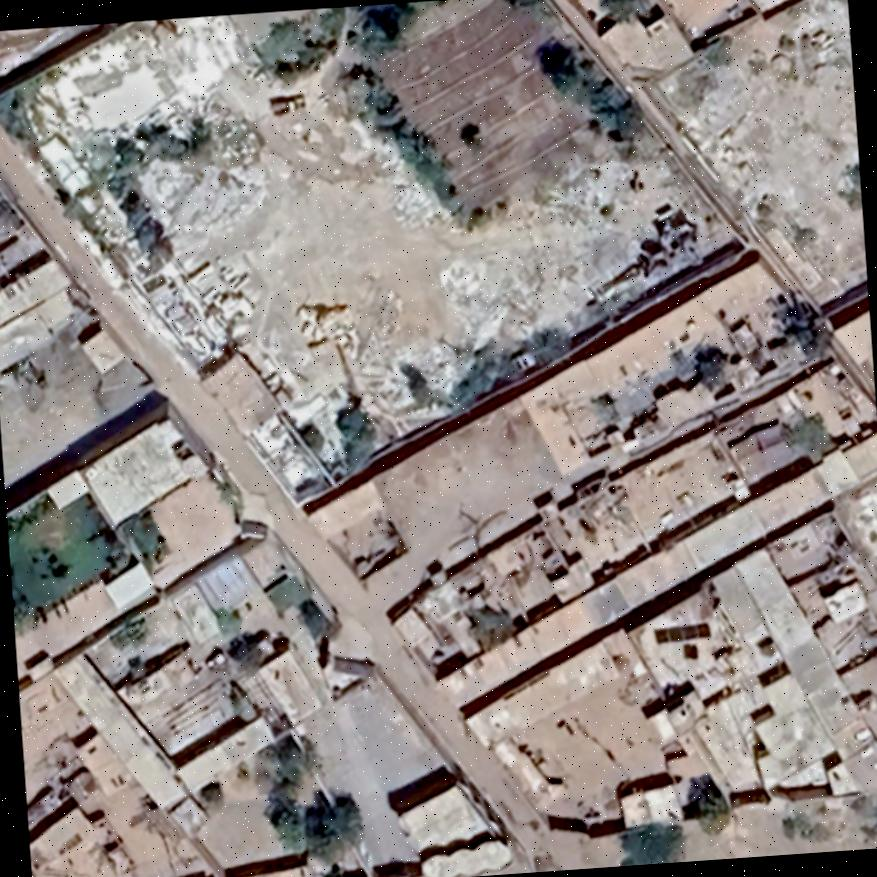Solarpanel: (649, 618, 717, 645), (678, 642, 699, 658)
